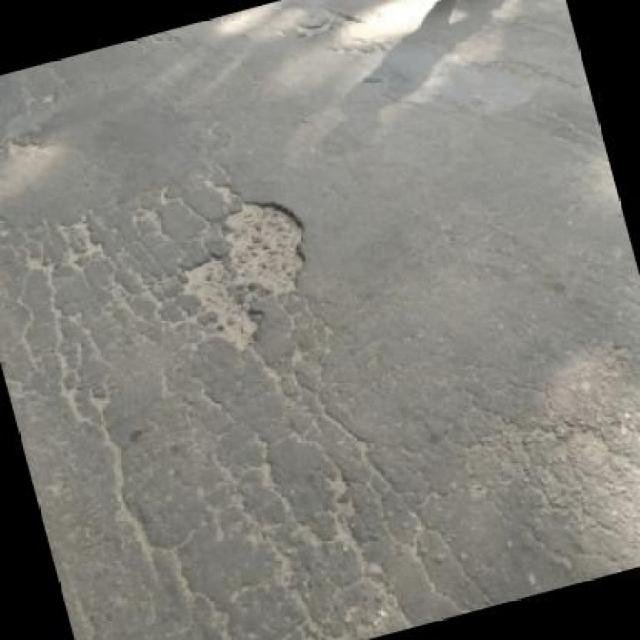pothole1: (157, 182, 332, 364)
